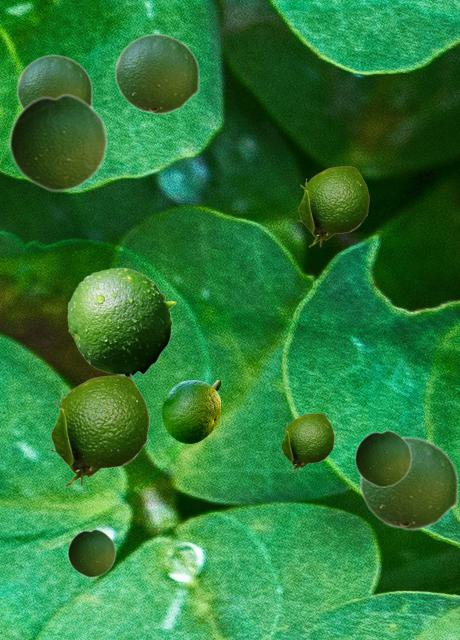dalandan: (67, 267, 175, 377), (49, 375, 148, 486), (8, 93, 107, 192), (359, 436, 458, 530), (114, 33, 199, 114), (297, 166, 368, 246), (16, 54, 92, 107), (162, 380, 219, 442), (354, 429, 411, 487), (280, 413, 333, 472), (67, 528, 115, 577)
